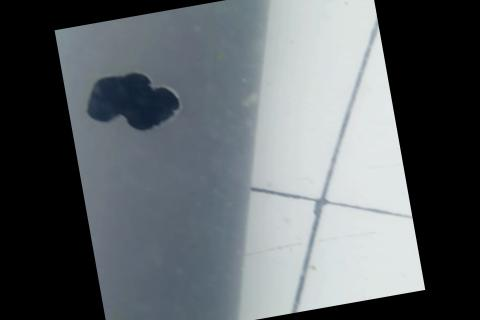kebocoran: (82, 63, 183, 140)
